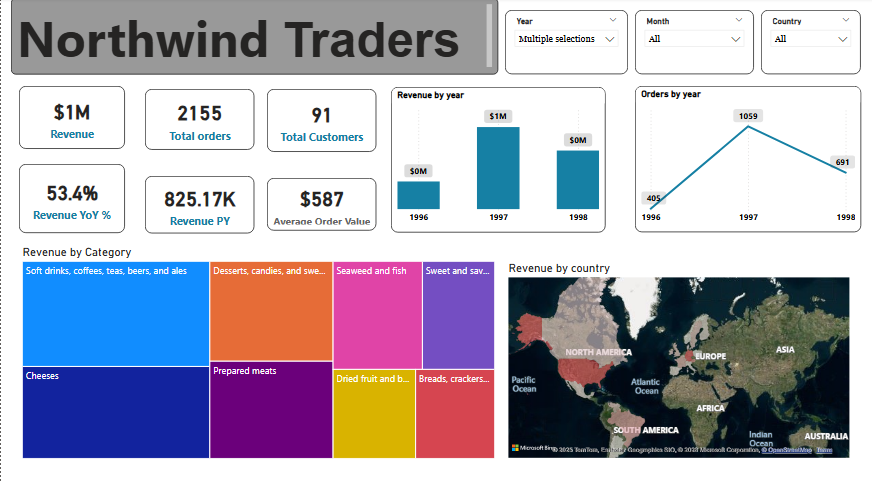

Layout of this report page (visuals, bound fields, positions):
{"tool":"powerbi","page":{"name":"Overview","canvas":[1280,720],"ordinal":0},"visuals":[{"type":"card","fields":{"Values":["-Measures.Average Order Value"]},"box":[388.9,263.3,160.4,76.7],"z":0},{"type":"card","fields":{"Values":["-Measures.Total Revenue"]},"box":[26.3,128.8,155.1,92.2],"z":1000},{"type":"card","fields":{"Values":["-Measures.Total orders"]},"box":[211,132.5,160.4,88.9],"z":2000},{"type":"card","fields":{"Values":["-Measures.Total Customers"]},"box":[388.9,132.5,160.4,92.4],"z":3000},{"type":"slicer","fields":{"Values":["dim_date.year"]},"box":[737.6,17.6,180,93.7],"z":4000},{"type":"slicer","fields":{"Values":["dim_date.month_name"]},"box":[927.8,17.6,174.1,93.7],"z":5000},{"type":"slicer","fields":{"Values":["dim_customers.country"]},"box":[1112.2,17.6,146.3,93.7],"z":6000},{"type":"card","fields":{"Values":["-Measures.Revenue YoY %"]},"box":[26.3,242.9,155.1,101],"z":7000},{"type":"card","fields":{"Values":["-Measures.Revenue PY"]},"box":[211,259.8,160.4,83.7],"z":8000},{"type":"lineClusteredColumnComboChart","title":"Orders by year","fields":{"Category":["dim_date.year"],"Y2":["-Measures.Total orders"]},"box":[927.7,129,331.3,214.5],"z":9000},{"type":"filledMap","title":"Revenue by country","fields":{"Category":["dim_customers.country"]},"box":[737.7,385.4,509.2,293],"z":10000},{"type":"textbox","box":[14,0,713.2,111.6],"z":11000},{"type":"treemap","title":"Revenue by Category","fields":{"Group":["dim_category.description","dim_products.product_name"],"Values":["-Measures.Total Revenue"]},"box":[26.2,361,701,317.4],"z":12000},{"type":"lineClusteredColumnComboChart","title":"Revenue by year","fields":{"Category":["dim_date.year"],"Y":["-Measures.Total Revenue"]},"box":[570.2,130.8,313.9,212.8],"z":13000}]}

Visuals, with their boxes in screenshot pixels (x1, y1, x2, y2), scaled from the page's 1280x720 canvas onto the 872x481 screenshot:
card - -Measures.Average Order Value: [265, 176, 374, 227]
card - -Measures.Total Revenue: [18, 86, 124, 148]
card - -Measures.Total orders: [144, 89, 253, 148]
card - -Measures.Total Customers: [265, 89, 374, 150]
slicer - dim_date.year: [502, 12, 625, 74]
slicer - dim_date.month_name: [632, 12, 751, 74]
slicer - dim_customers.country: [758, 12, 857, 74]
card - -Measures.Revenue YoY %: [18, 162, 124, 230]
card - -Measures.Revenue PY: [144, 174, 253, 229]
"Orders by year" lineClusteredColumnComboChart: [632, 86, 858, 229]
"Revenue by country" filledMap: [503, 257, 849, 453]
textbox: [10, 0, 495, 75]
"Revenue by Category" treemap: [18, 241, 495, 453]
"Revenue by year" lineClusteredColumnComboChart: [388, 87, 602, 230]
